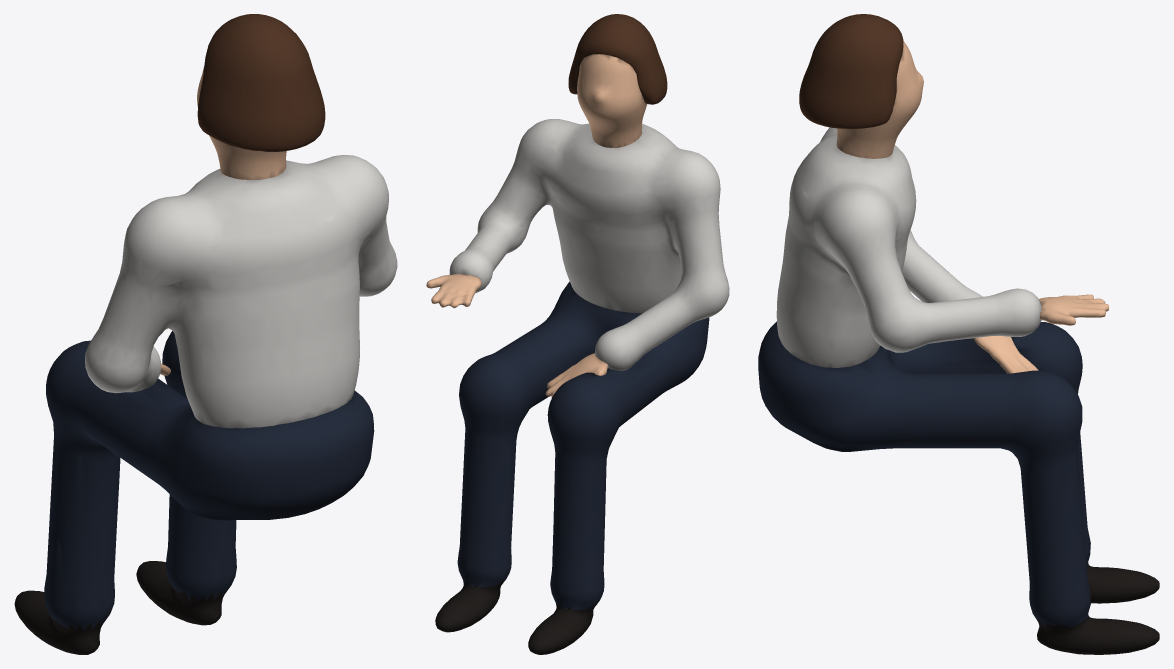
File: avatar-b.glb
3 views of the same model, side by side, from view 1: azimuth 30°, elevation 25°; view 2: azimuth 150°, elevation 25°; view 3: azimuth 270°, elevation 25° (orthographic). The views are drawn at different scales.
Parts seen in each view (by area): view 1: Shirt, Trousers, Hair, Skin; view 2: Trousers, Shirt, Skin, Hair; view 3: Trousers, Shirt, Hair, Skin.
Boxes of the visible parts, x1,y1,x2,y2 form: Shirt: [85, 155, 397, 428]; Trousers: [14, 331, 374, 654]; Hair: [197, 14, 325, 151]; Skin: [160, 66, 286, 375]; Trousers: [435, 281, 709, 654]; Shirt: [449, 119, 729, 370]; Skin: [426, 54, 647, 397]; Hair: [568, 14, 667, 104]; Trousers: [758, 321, 1159, 654]; Shirt: [776, 127, 1041, 367]; Hair: [799, 14, 903, 128]; Skin: [836, 41, 1108, 373].
Size of the model in its own units: 0.6147 by 1.33 by 0.7922.
